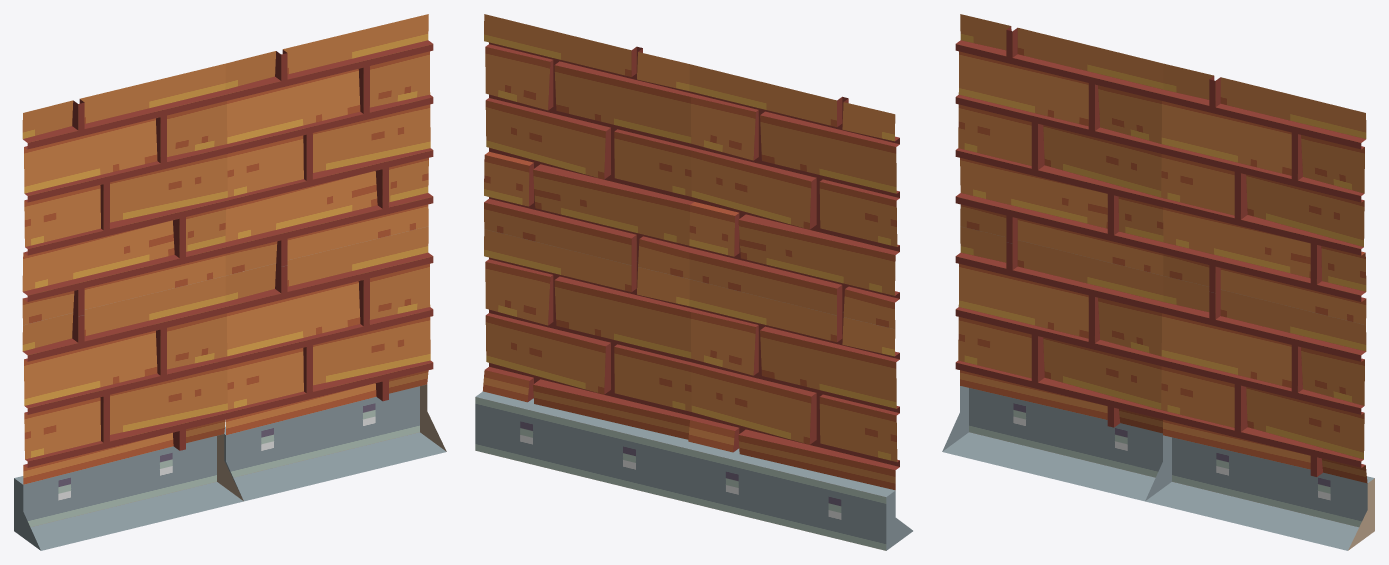
The model's file is BottomKayu.fbx.
3 renders of one model, left to right at view 1: azimuth 30°, elevation 25°; view 2: azimuth 150°, elevation 25°; view 3: azimuth 330°, elevation 25°, orthographic.
Visible parts, largest first — view 1: BottomKayu; view 2: BottomKayu; view 3: BottomKayu.
Boxes of the visible parts, bbox=[...] form: BottomKayu: bbox=[14, 14, 446, 550]; BottomKayu: bbox=[475, 14, 912, 550]; BottomKayu: bbox=[942, 14, 1374, 550].
Bounding box in the file's own units: 10.92 × 94.81 × 94.81.
